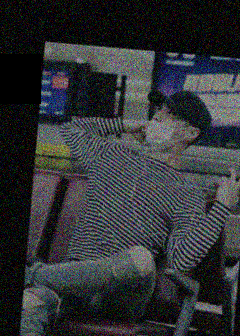mask_weared_incorrect: (146, 105, 187, 149)
